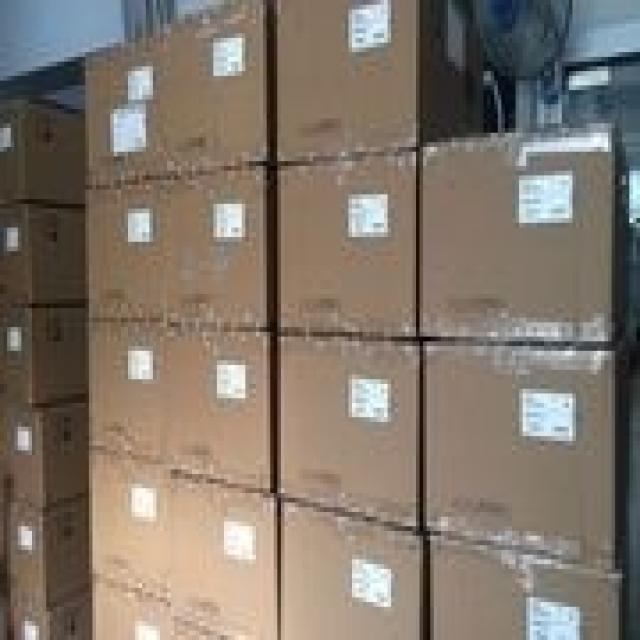box: (421, 325, 631, 571), (420, 122, 632, 347), (86, 451, 279, 634), (83, 3, 272, 186), (270, 2, 484, 158), (86, 317, 277, 490), (84, 163, 275, 329), (273, 327, 422, 531), (273, 150, 420, 339), (277, 491, 424, 634), (426, 535, 631, 635), (1, 483, 89, 610), (1, 394, 88, 510), (1, 197, 88, 308), (0, 95, 85, 205), (0, 301, 86, 403), (89, 580, 220, 635), (1, 579, 91, 635)
